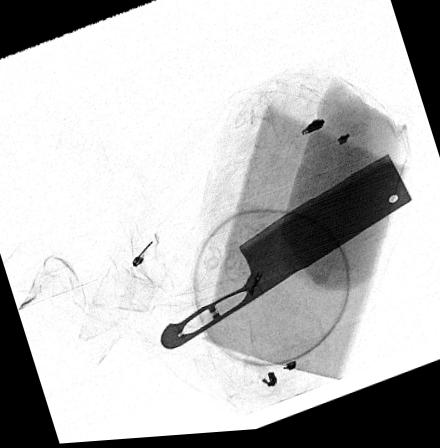Knife: (159, 158, 411, 351)
